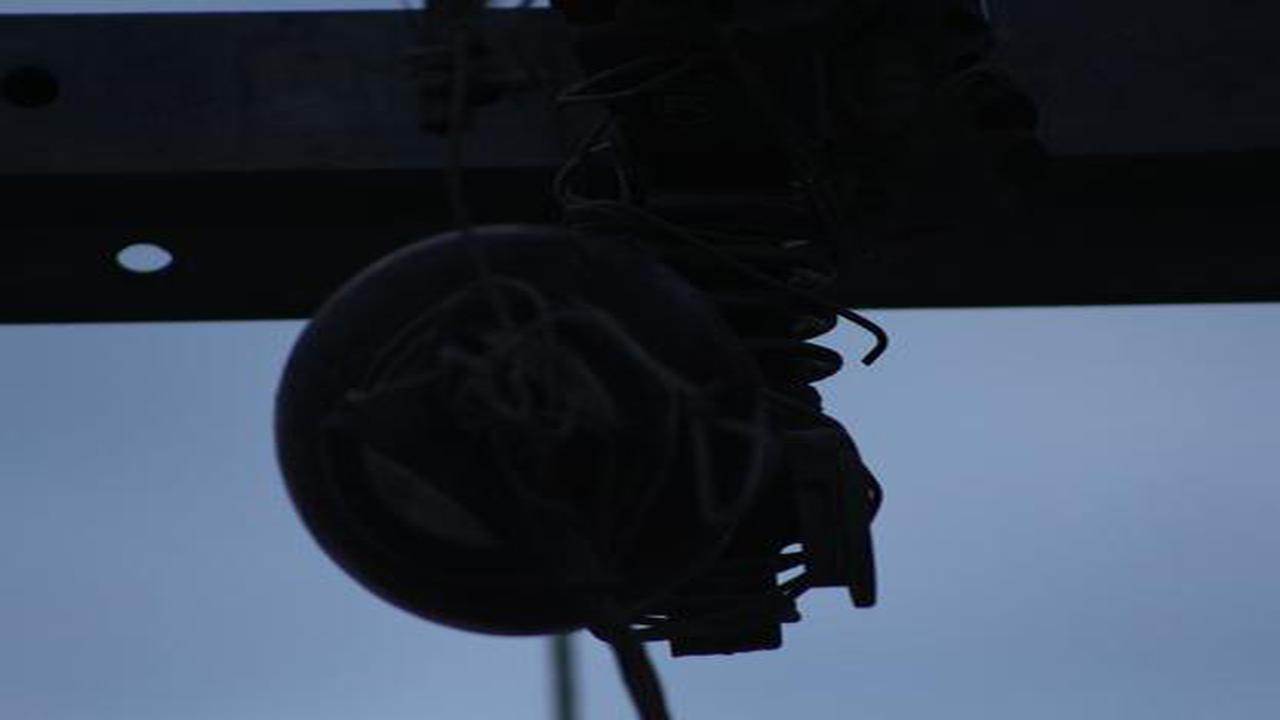insulator_pin: (265, 218, 773, 643)
